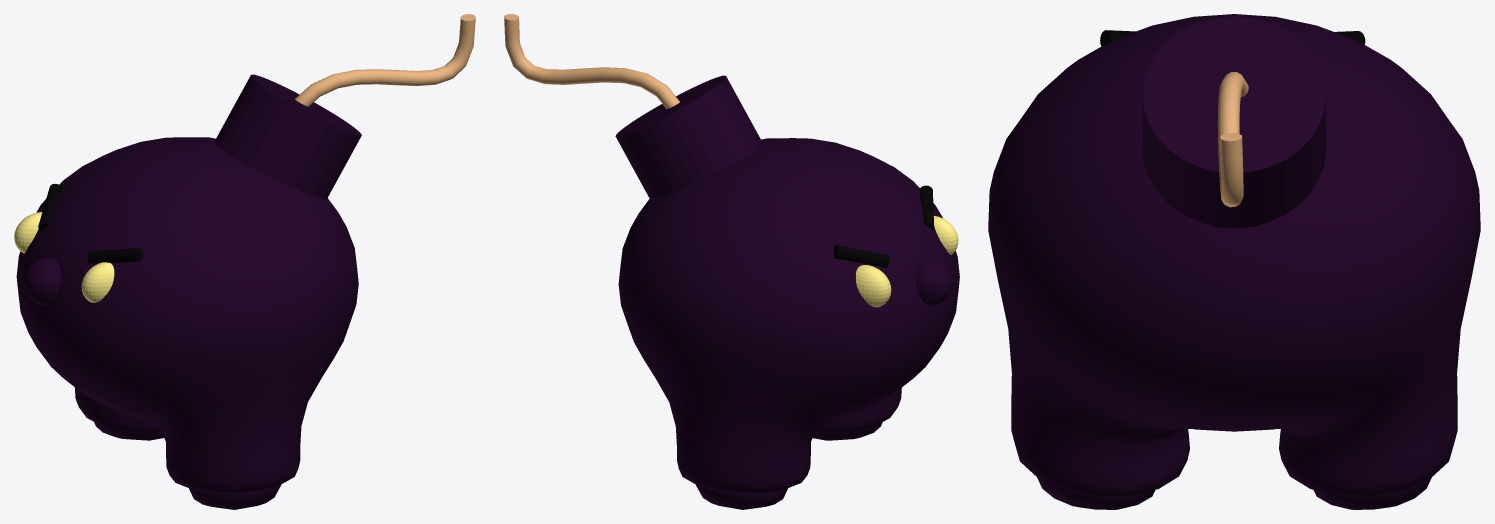
File: bombbb.fbx
3 views of the same model, side by side, from view 1: azimuth 30°, elevation 25°; view 2: azimuth 150°, elevation 25°; view 3: azimuth 270°, elevation 25° (orthographic). The views are drawn at different scales.
Parts seen in each view (by area): view 1: Roundcube, Cylinder, BezierCurve, Sphere, Sphere.002, Cylinder.002, Sphere.001, Cylinder.001; view 2: Roundcube, Cylinder, BezierCurve, Sphere, Sphere.001, Cylinder.001, Sphere.002; view 3: Roundcube, Cylinder, BezierCurve.
Part boxes in pixels (box(x1,y1,x2,y2)): Roundcube: box(16, 137, 358, 509); Cylinder: box(214, 74, 361, 199); BezierCurve: box(294, 14, 475, 106); Sphere: box(23, 257, 60, 305); Sphere.002: box(81, 262, 114, 302); Cylinder.002: box(87, 248, 142, 263); Sphere.001: box(14, 212, 42, 253); Cylinder.001: box(38, 184, 62, 231); Roundcube: box(618, 138, 959, 509); Cylinder: box(615, 75, 761, 199); BezierCurve: box(504, 14, 679, 108); Sphere: box(916, 258, 952, 306); Sphere.001: box(855, 265, 891, 307); Cylinder.001: box(834, 245, 889, 268); Sphere.002: box(933, 216, 958, 254); Roundcube: box(988, 14, 1480, 509); Cylinder: box(1142, 16, 1326, 228); BezierCurve: box(1217, 72, 1248, 207).
Bounding box in the file's own units: 2105 × 1713 × 1385.
